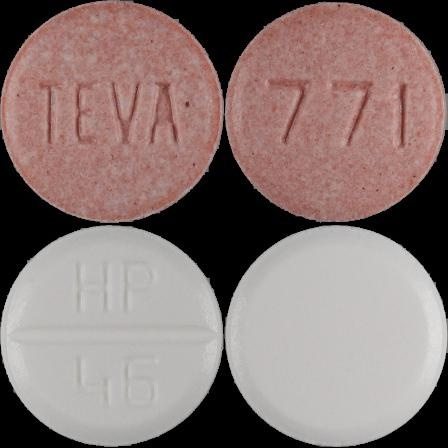54458-927: (0, 0, 224, 224)
